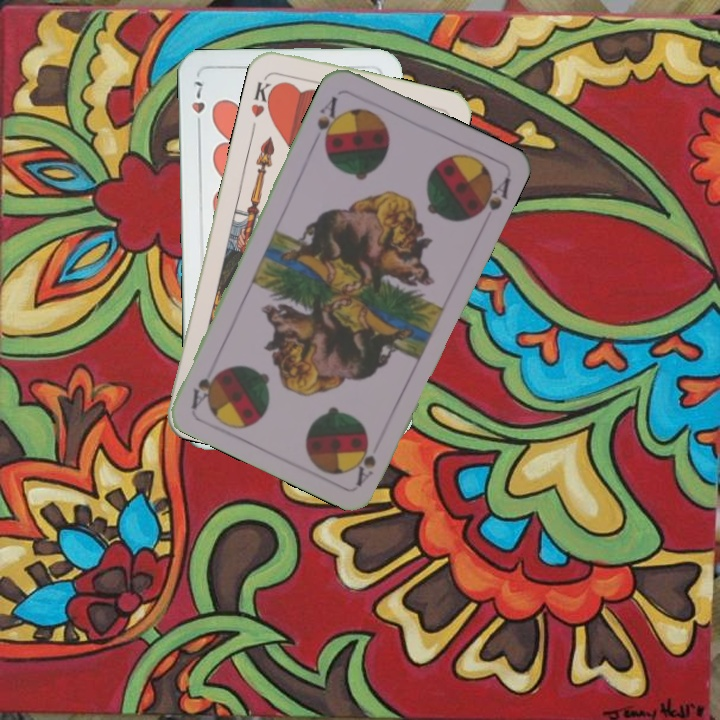H7: (188, 77, 208, 133)
HK: (246, 72, 279, 120)
SA: (313, 92, 344, 150), (349, 434, 379, 488)
